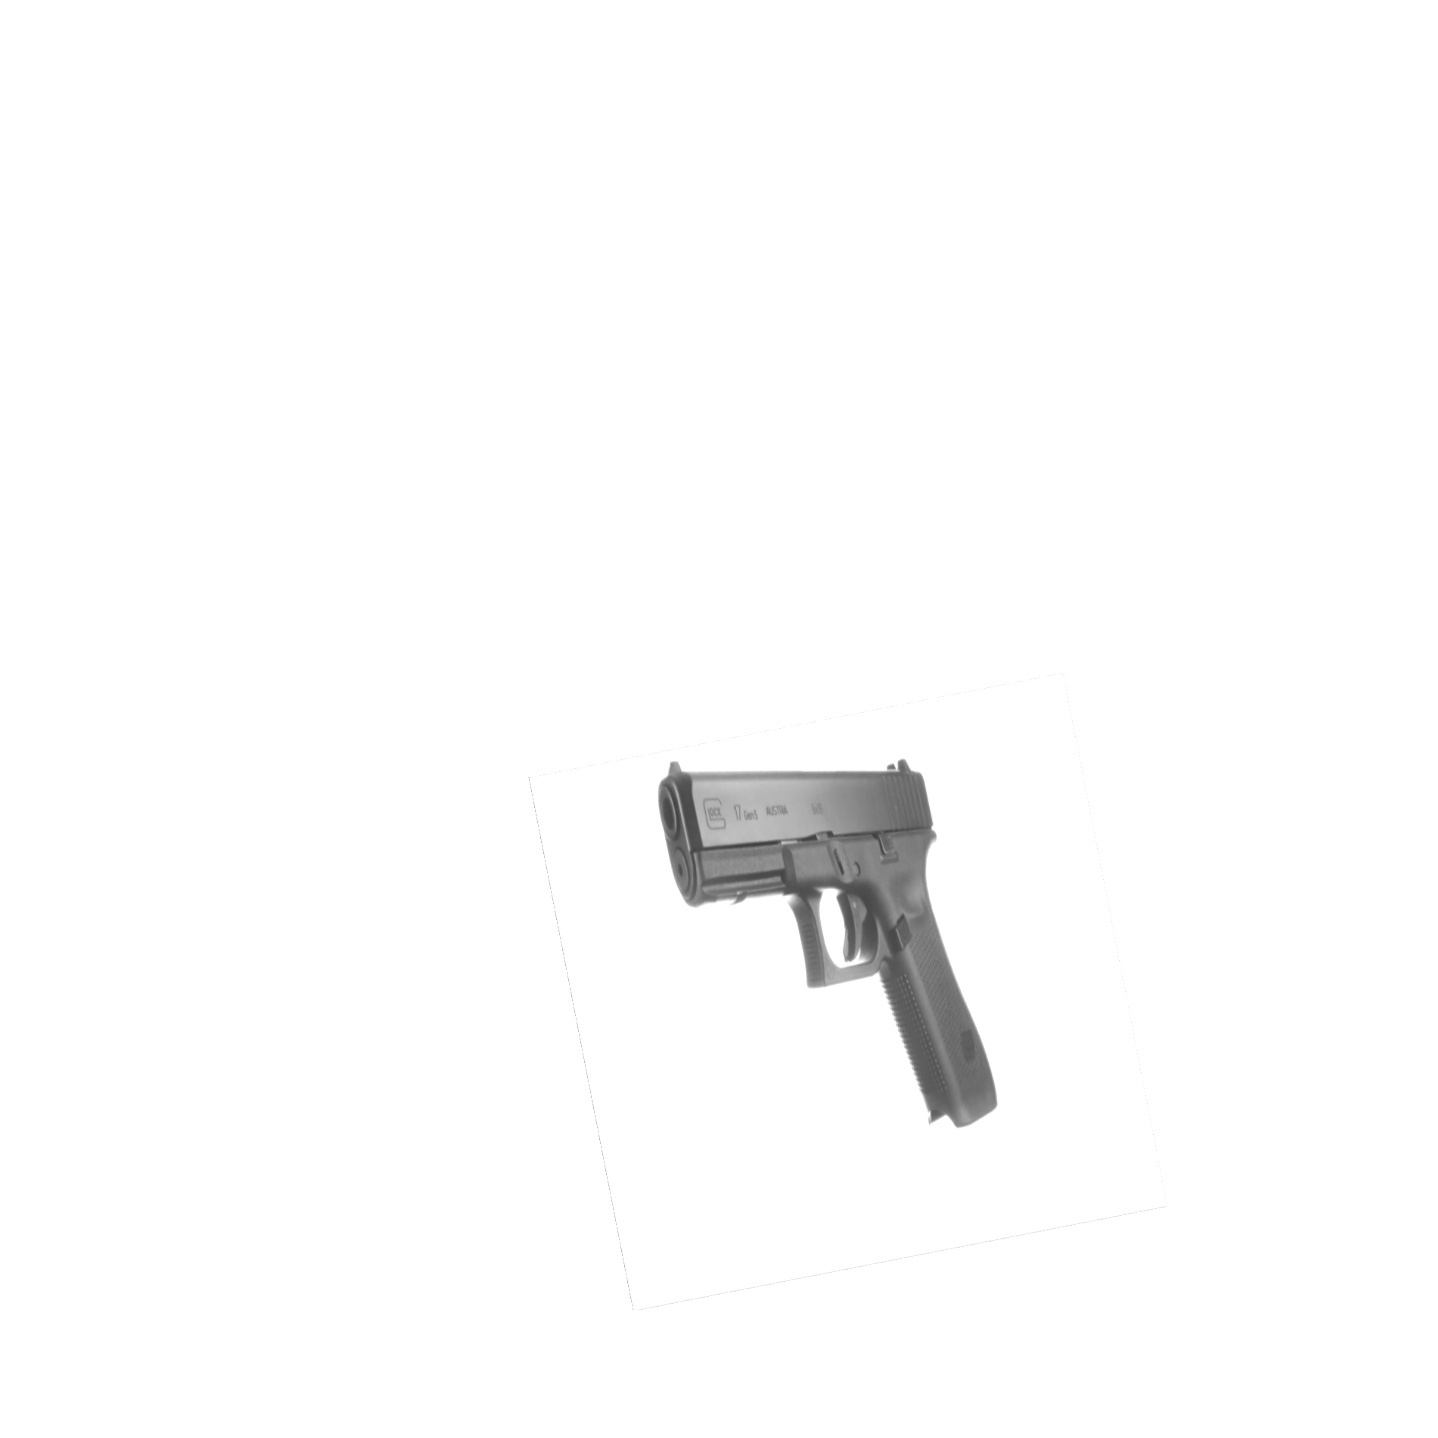gun: (652, 751, 1002, 1129)
